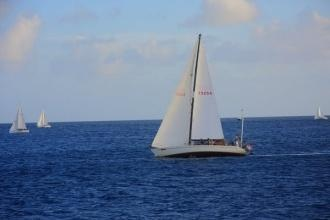fanchuan: (146, 31, 253, 159), (10, 107, 29, 135), (36, 108, 53, 130), (310, 107, 329, 121)
